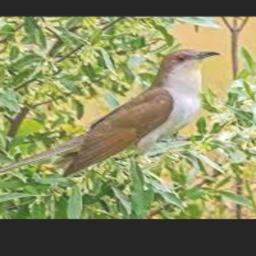Cuckoo: (0, 48, 222, 192)
